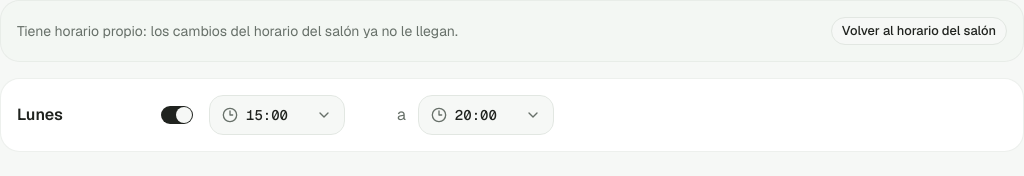
Test case: AvailabilityEditor › la herencia del horario del salón › si soltar falla, muestra el error y no cambia el horario que se ve
Step 1. Click the button "Volver al horario del salón" → (919, 31), box [831,17,1007,45]
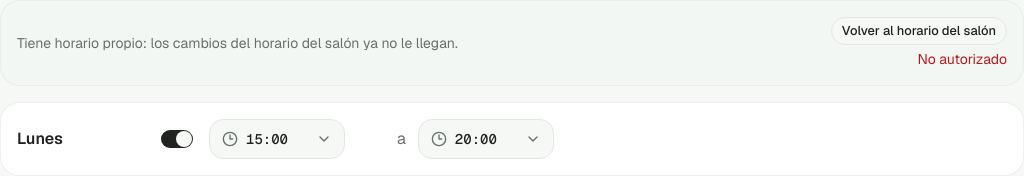
Check: the button "15:00" is shown, box [209,119,345,159]
Check: the text "No autorizado" is shown, box [918,49,1007,69]
